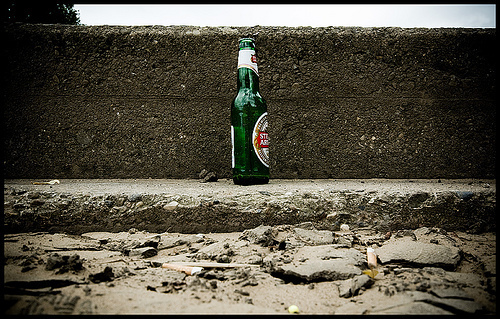litter: (230, 37, 270, 185)
